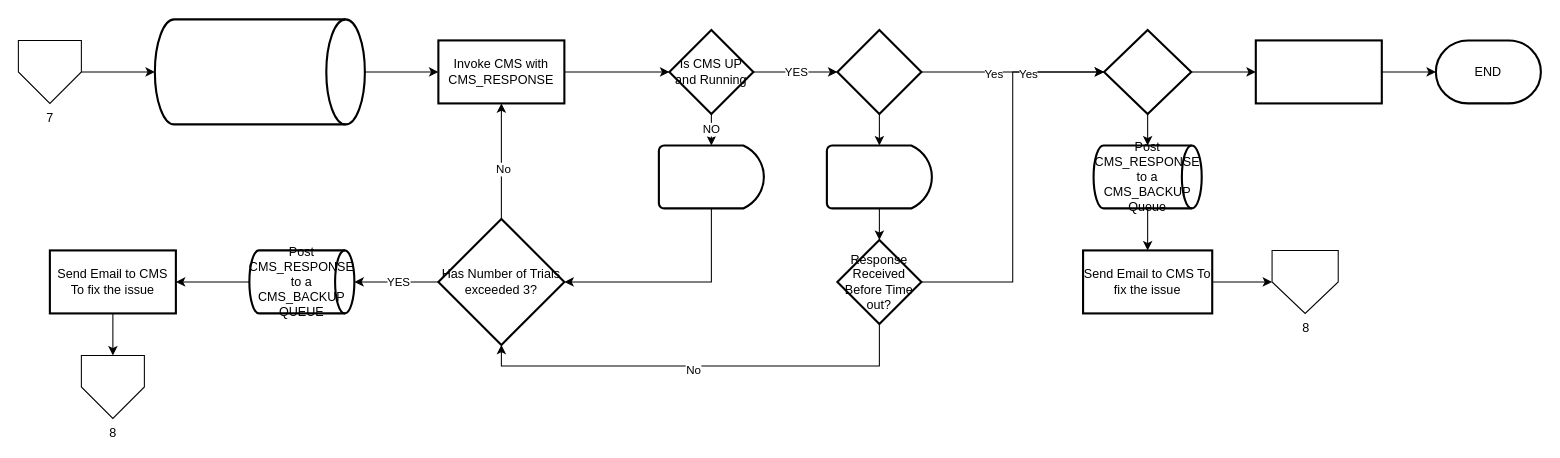
Some shapes in this 1560 by 458 pixel diagram are drawn without their labels. The centre of each missing label's shape, as x and y in pixels:
CMS RESPONSE in "CMS_QUEUE": point (259, 71)
Delete Request and response from DATA_STORE: point (1318, 71)
Received a Response: point (879, 71)
Valid Response: point (1147, 71)
Wait for 30 Mins: point (710, 176)
Wait until Times out: point (878, 176)
